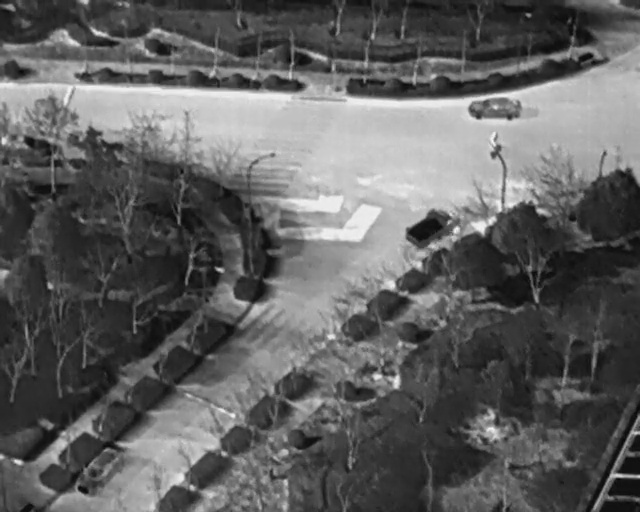Car: (70, 439, 132, 504), (400, 198, 460, 256), (469, 94, 523, 122)
